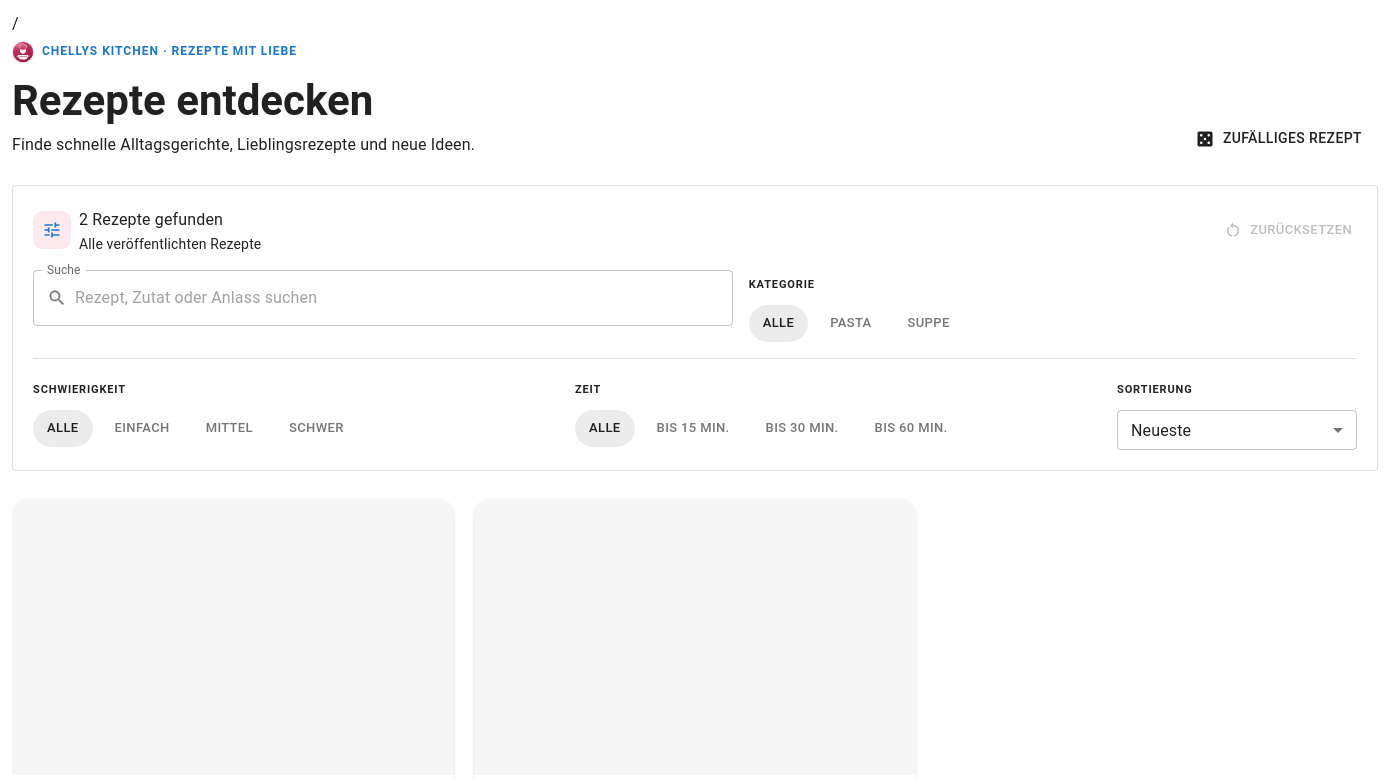
Test: HomePage random recipe action › shows a message when no recipe matches the filters
Click the button "Zufälliges Rezept". click: [1280, 139]
box: left=1183, top=120, right=1378, bottom=157
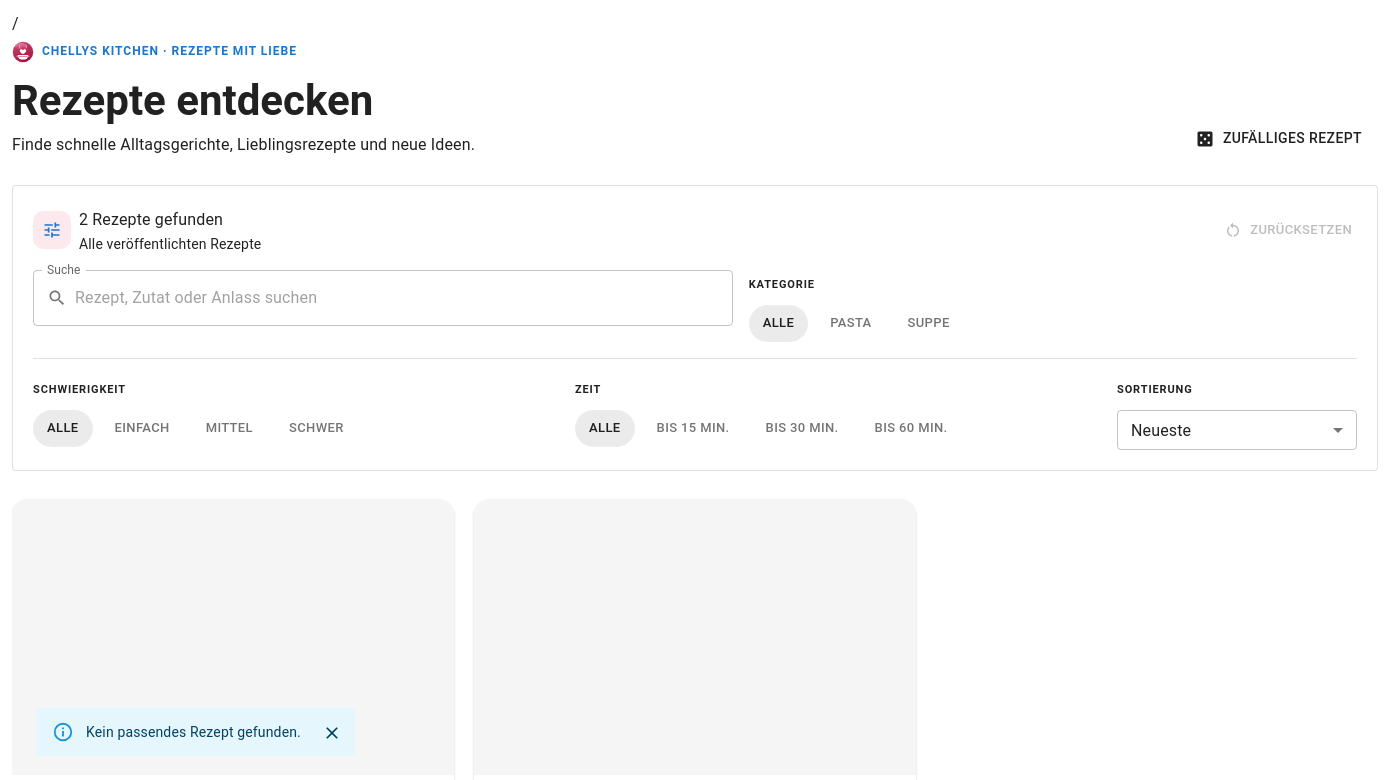
Check: the text named "current-path" reads "/", box left=12, top=14, right=19, bottom=33
Check: the text "Kein passendes Rezept gefunden." is shown, box left=86, top=724, right=301, bottom=740
